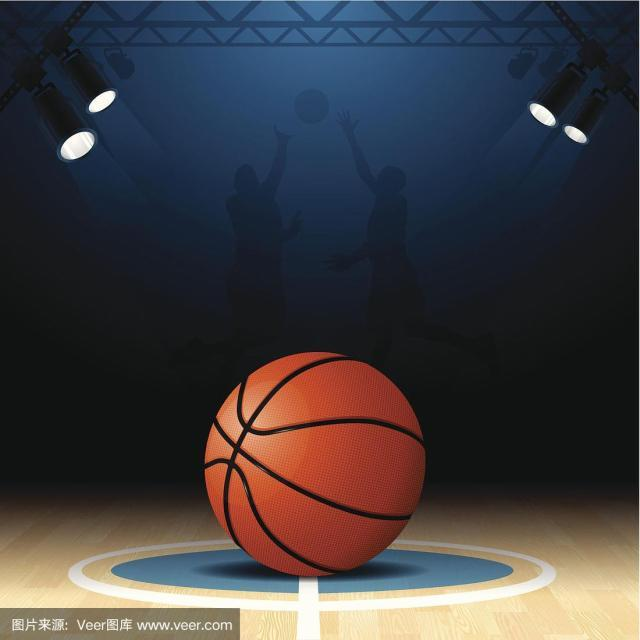rim: (205, 343, 424, 575)
